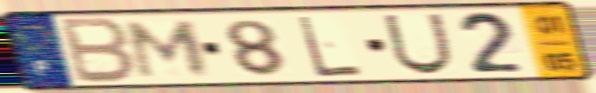2: (456, 7, 535, 79)
8: (220, 18, 291, 78)
B: (58, 16, 139, 86)
L: (295, 13, 366, 79)
M: (124, 19, 212, 80)
U: (379, 12, 456, 77)
